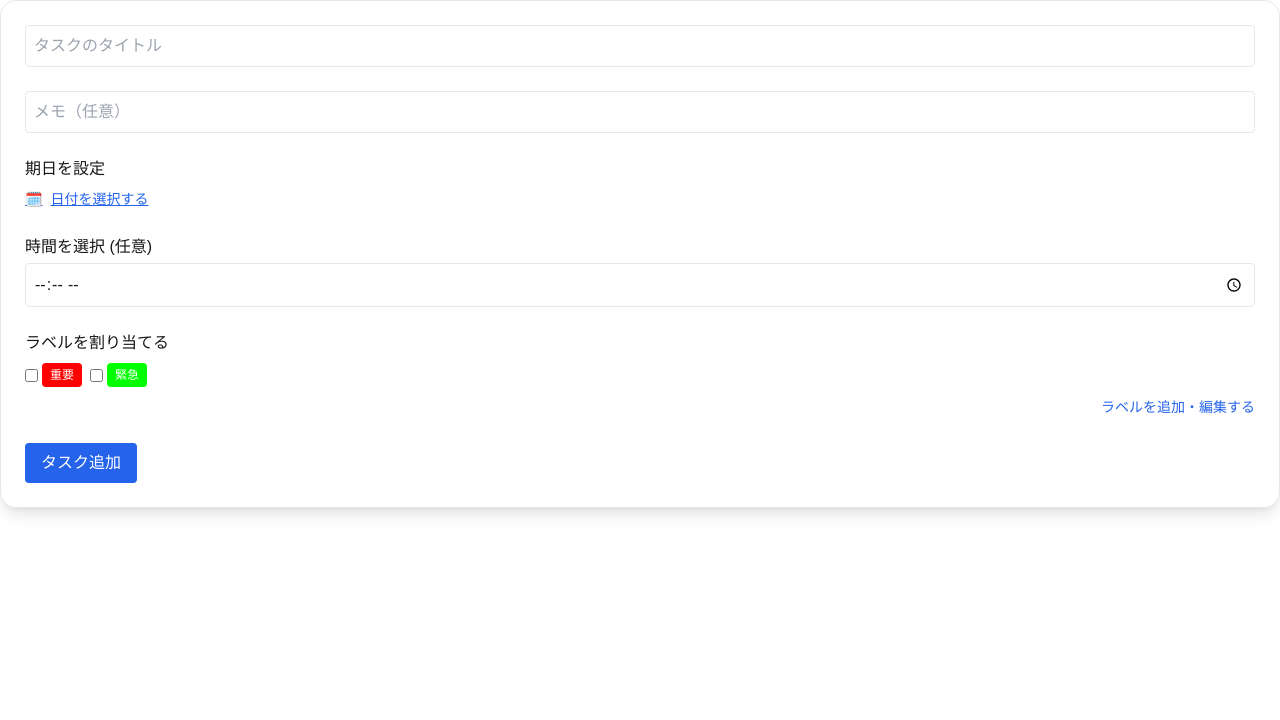
Test: NewTaskForm › バリデーション: タイトルが空だとエラー表示
What coordinates should you click on to do the following:
click the button "タスク追加"
I would click on:
 (81, 463)
Its box is [25,443,137,483].
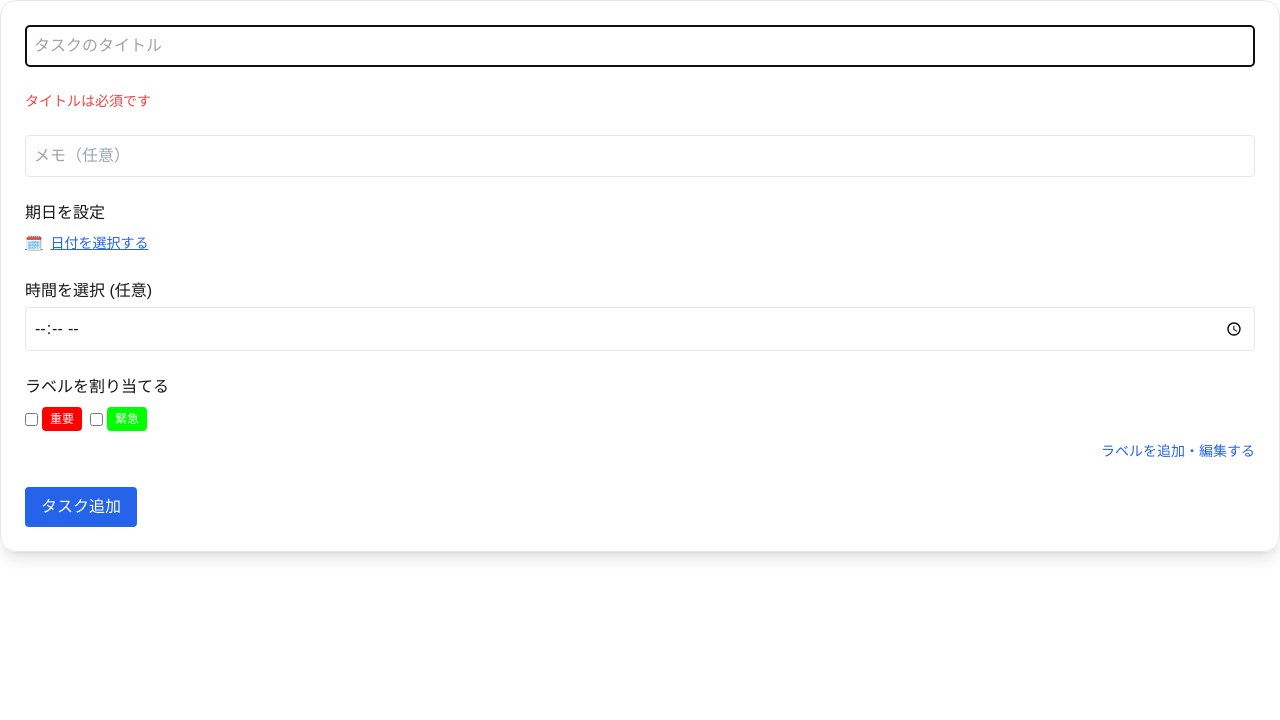
Check: the text "タイトルは必須です" is shown, box [25,93,151,109]
